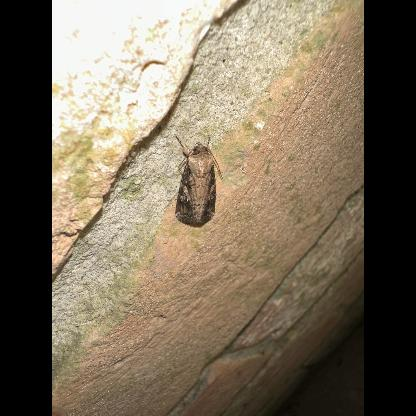Fall Armyworm Moth: (174, 134, 224, 226)
